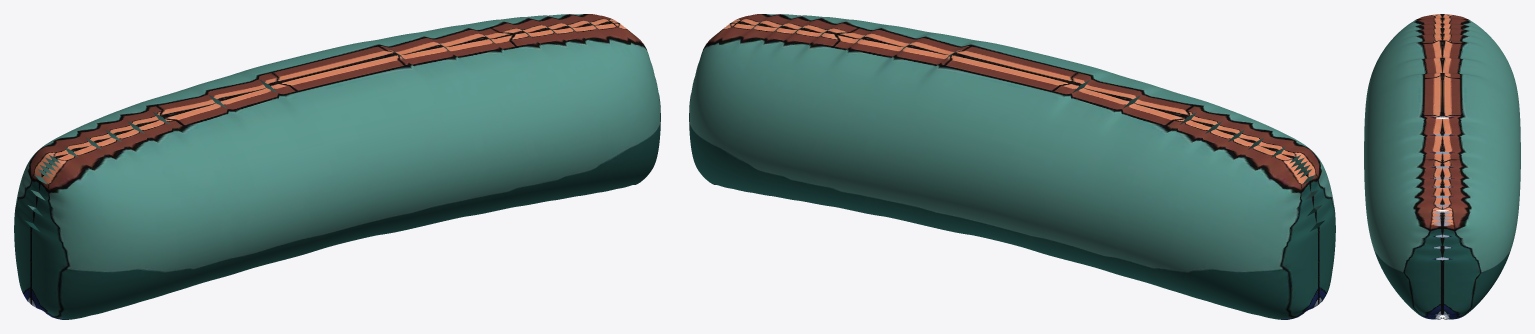
Rendered from rear_wall_section.glb.
3 views of the same model, side by side, from view 1: azimuth 30°, elevation 25°; view 2: azimuth 150°, elevation 25°; view 3: azimuth 270°, elevation 25° (orthographic). The views are drawn at different scales.
Visible parts, largest first — view 1: rear_wall_section; view 2: rear_wall_section; view 3: rear_wall_section.
Part boxes in pixels (bbox=[...]): rear_wall_section: bbox=[14, 14, 660, 319]; rear_wall_section: bbox=[689, 14, 1335, 319]; rear_wall_section: bbox=[1364, 14, 1520, 319].
Bounding box in the file's own units: 0.989 × 0.276 × 0.312.
Materials: 1 (1 with a texture image).
